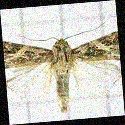Spodoptera litura: (5, 25, 121, 114)
